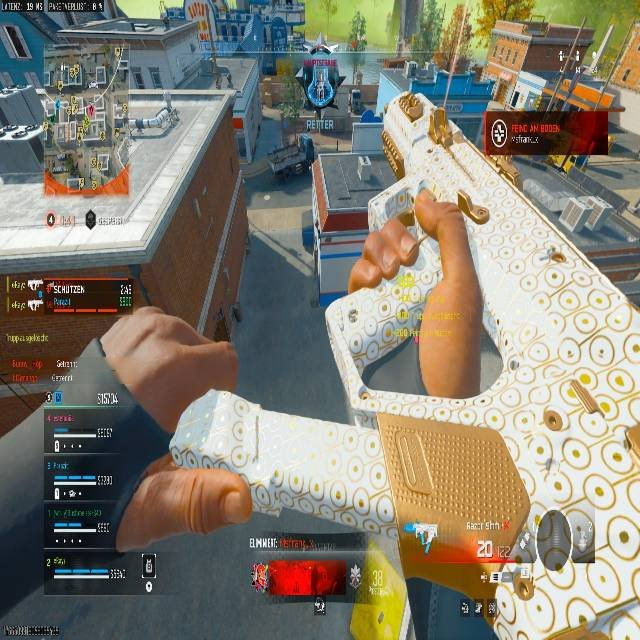head: (96, 306, 239, 436)
player: (325, 89, 489, 408), (268, 134, 317, 182)
